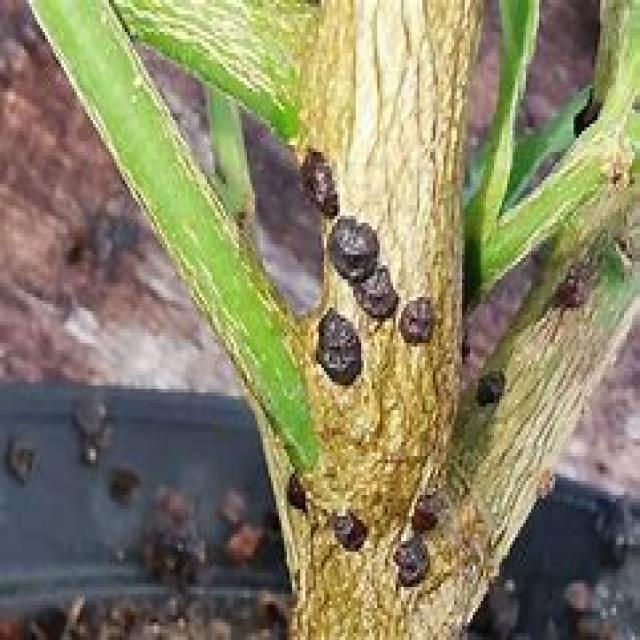BlackScale: (326, 216, 391, 314), (388, 491, 448, 590), (316, 308, 360, 386), (296, 152, 332, 216), (398, 292, 436, 344), (329, 510, 364, 552), (475, 369, 502, 409)
